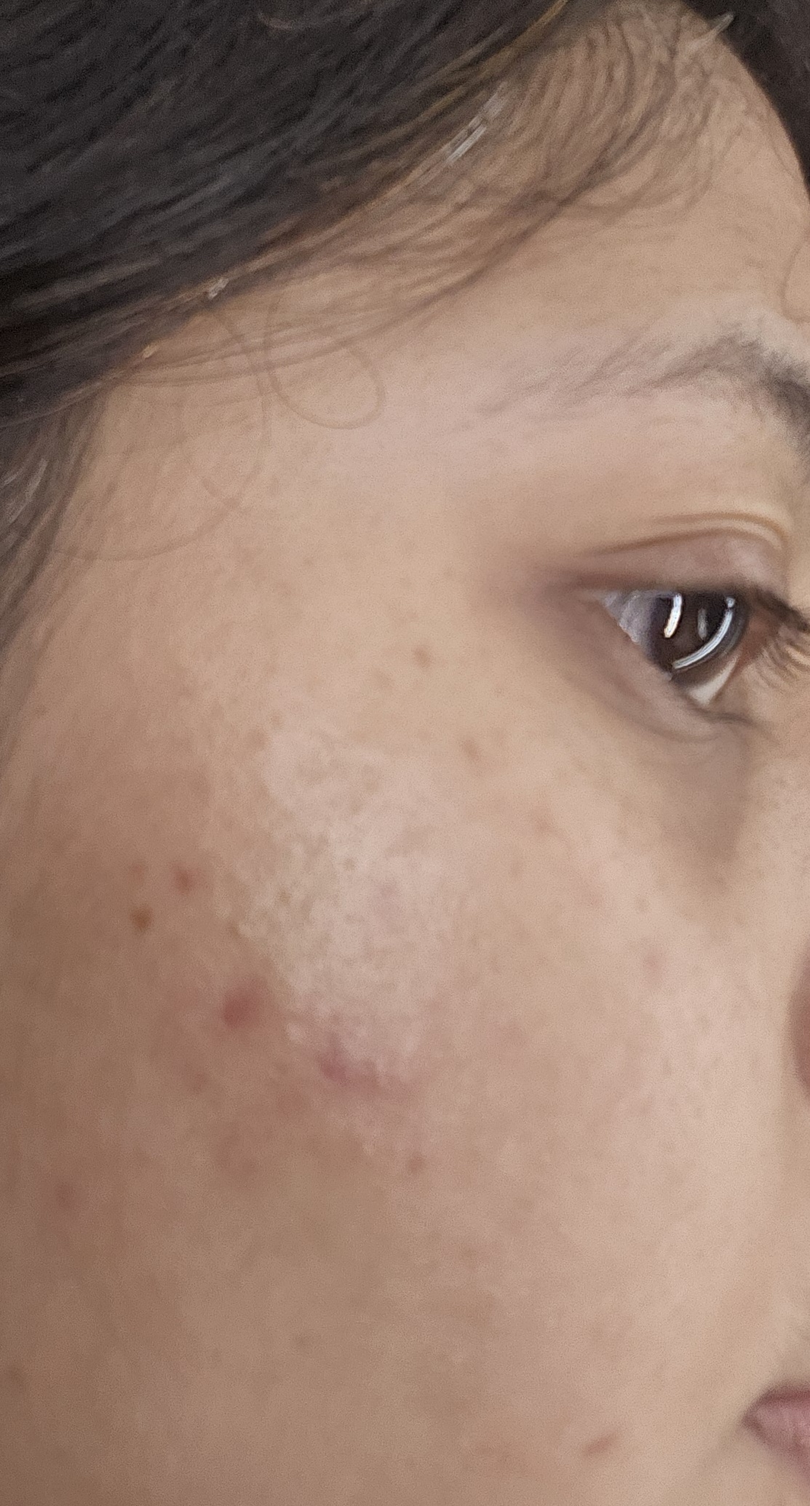closed_comedone: (247, 775, 309, 842), (205, 900, 287, 947)
papule: (309, 1029, 419, 1108), (188, 959, 292, 1036), (441, 713, 506, 780)
